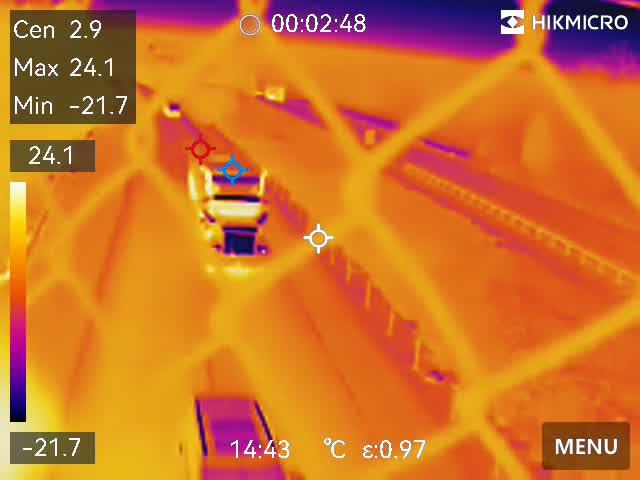heavyTruck: (186, 142, 283, 269)
vehicle: (189, 383, 305, 480), (261, 85, 288, 101), (159, 101, 184, 118)
